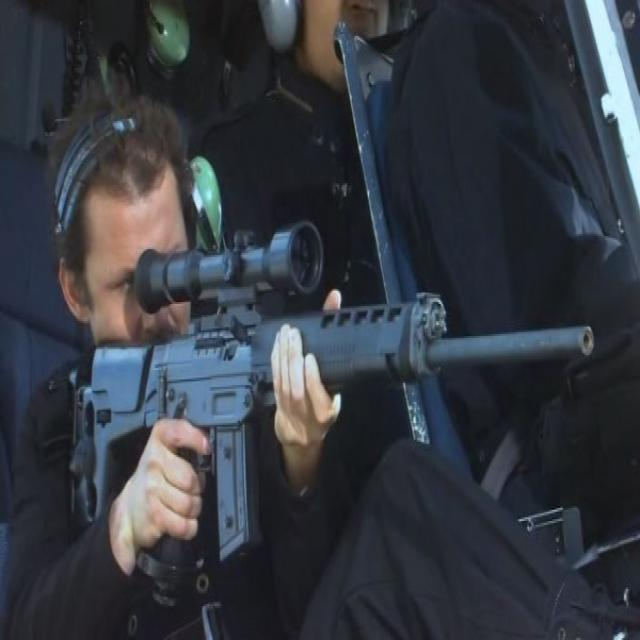rifle: (65, 212, 595, 573)
